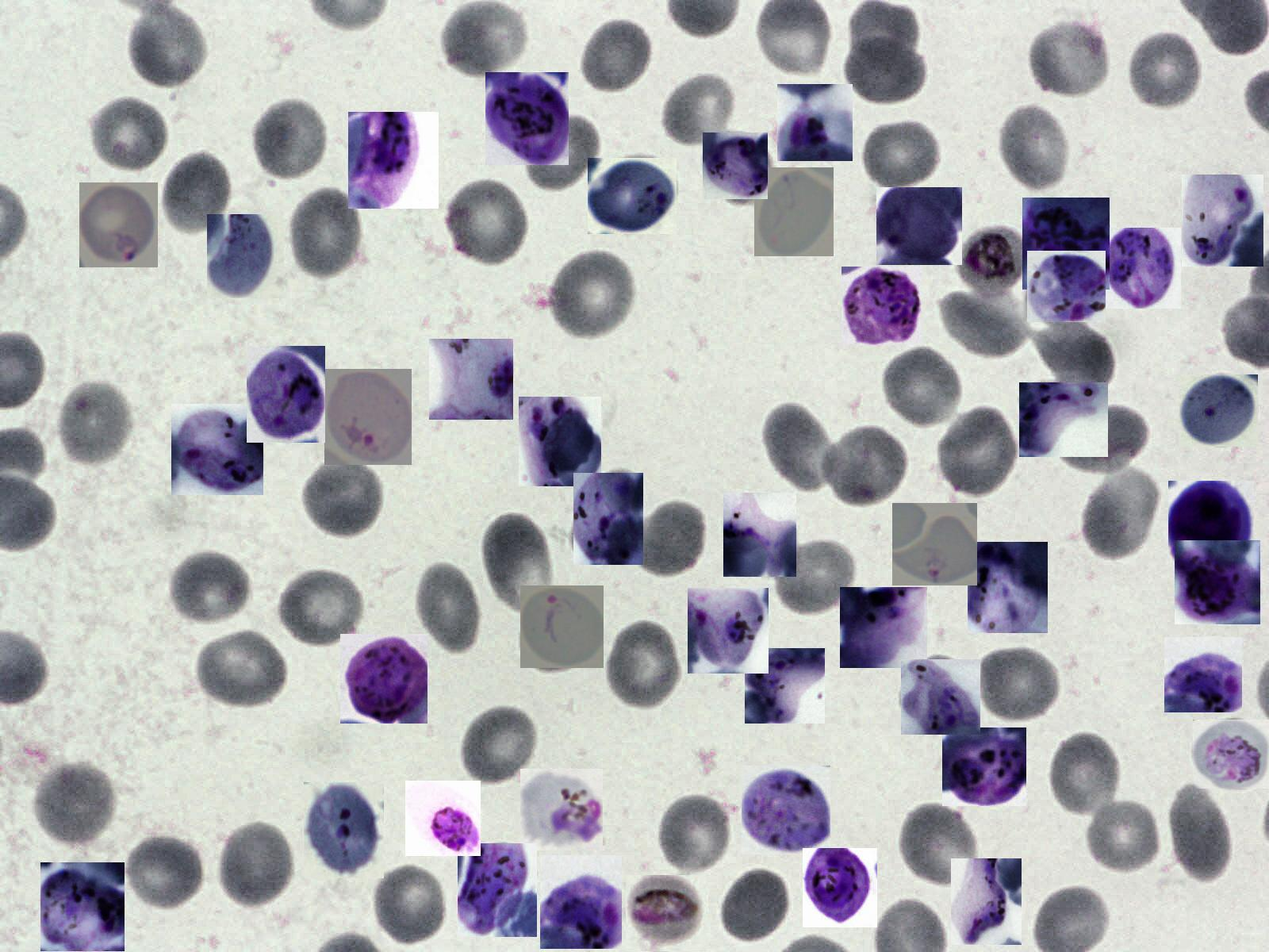Infected: (348, 112, 439, 209), (171, 404, 263, 495), (325, 369, 412, 465), (1022, 198, 1110, 290), (1168, 481, 1254, 573), (340, 634, 427, 724), (485, 72, 569, 165), (742, 766, 830, 854), (540, 855, 622, 949), (304, 782, 384, 878), (247, 346, 325, 443), (40, 862, 125, 951), (1182, 175, 1263, 267), (458, 843, 537, 937), (519, 397, 601, 486), (968, 542, 1048, 633), (1175, 540, 1260, 624), (754, 167, 834, 256), (840, 587, 927, 668), (520, 585, 604, 668), (892, 503, 977, 585), (688, 588, 769, 674), (429, 339, 513, 420), (588, 158, 677, 234), (520, 769, 603, 850), (79, 182, 158, 267), (876, 187, 962, 265), (1019, 382, 1108, 457), (942, 727, 1026, 806), (207, 214, 284, 298), (573, 474, 643, 566), (1103, 228, 1181, 309), (842, 267, 922, 345), (951, 858, 1022, 945), (723, 493, 796, 577), (627, 875, 707, 951), (901, 659, 980, 735), (745, 649, 825, 724), (777, 84, 853, 161), (1164, 637, 1242, 712), (803, 848, 877, 927), (956, 225, 1033, 300), (1179, 374, 1258, 447), (405, 781, 481, 856), (1027, 251, 1106, 322), (1193, 720, 1269, 789), (704, 132, 769, 199)
Uninfected: (545, 248, 638, 341), (842, 10, 927, 107), (935, 404, 1020, 500), (1079, 466, 1163, 563), (442, 176, 530, 268), (32, 758, 119, 850), (194, 628, 289, 711), (819, 423, 910, 509), (276, 566, 367, 650), (604, 619, 685, 713), (300, 453, 387, 540), (126, 0, 209, 91), (286, 186, 366, 280), (439, 1, 529, 84), (880, 344, 964, 430), (1167, 780, 1233, 889), (1026, 16, 1110, 101), (517, 108, 600, 192), (86, 93, 172, 174), (770, 536, 857, 616), (251, 97, 331, 183), (976, 644, 1061, 724), (900, 804, 983, 885), (458, 704, 539, 787), (121, 833, 205, 913), (1124, 29, 1204, 113), (168, 550, 252, 630), (412, 562, 485, 654), (760, 404, 839, 489), (661, 72, 743, 153), (1055, 405, 1153, 472), (1083, 795, 1163, 877), (57, 379, 131, 467), (157, 150, 232, 236), (364, 857, 443, 938), (632, 498, 709, 580), (657, 792, 733, 875), (941, 294, 1034, 361), (999, 101, 1068, 190), (860, 118, 941, 193), (581, 19, 659, 94), (219, 826, 290, 908), (1049, 735, 1118, 818), (1032, 320, 1114, 389), (486, 516, 548, 606), (720, 870, 789, 946)
